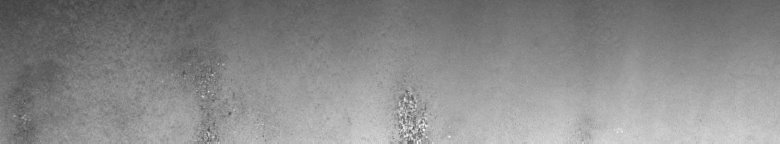hc: (390, 87, 436, 136)
